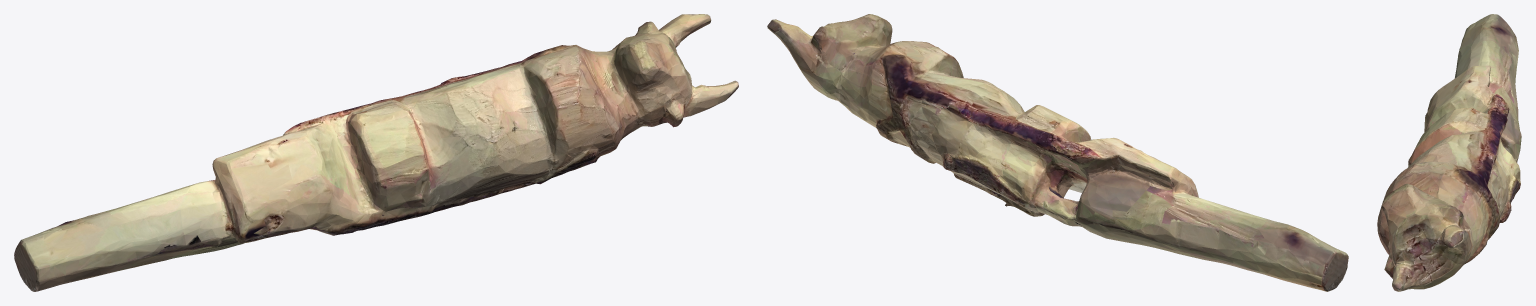
The model's file is bull.glb.
3 renders of one model, left to right at view 1: azimuth 30°, elevation 25°; view 2: azimuth 150°, elevation 25°; view 3: azimuth 270°, elevation 25°, orthographic. The views are drawn at different scales.
Visible parts, largest first — view 1: horse_texturehires; view 2: horse_texturehires; view 3: horse_texturehires.
Part boxes in pixels (x1=…): horse_texturehires: x1=14, y1=14, x2=738, y2=291; horse_texturehires: x1=767, y1=14, x2=1348, y2=291; horse_texturehires: x1=1377, y1=14, x2=1521, y2=291.
Size of the model in its own units: 265 by 54.42 by 53.11.
Materials: 1 (1 with a texture image).
